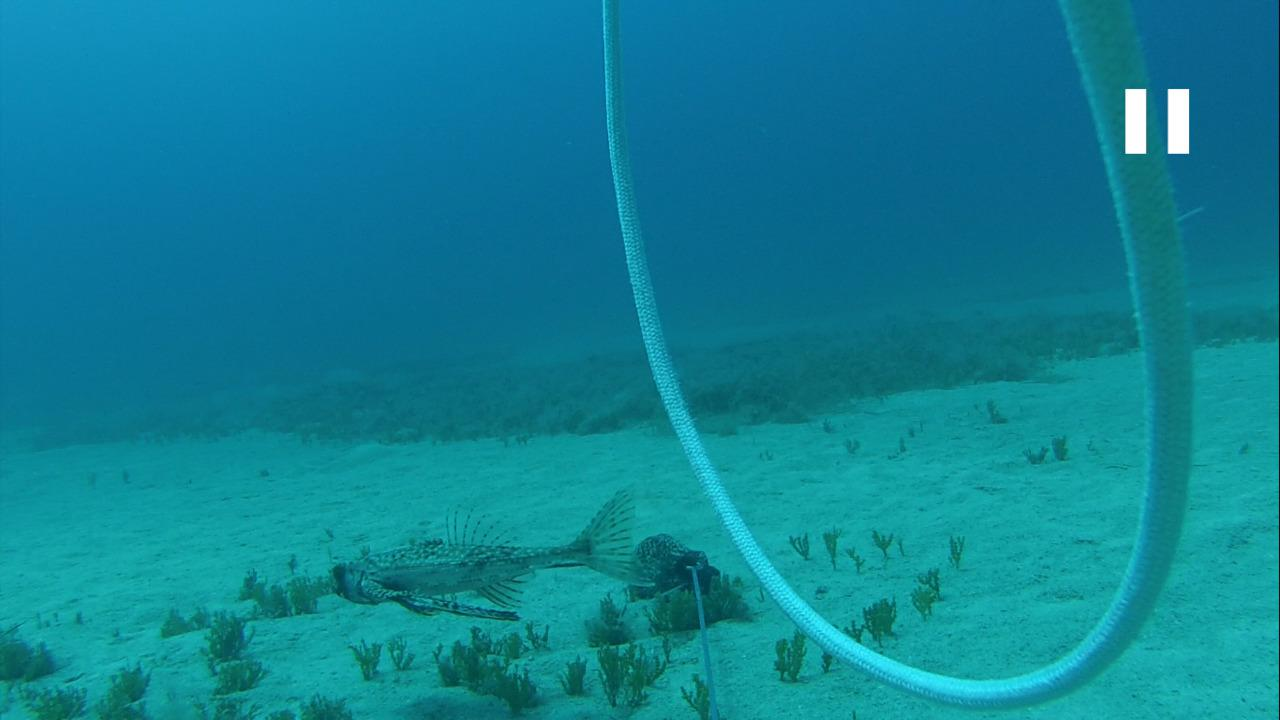dactylopterus: (321, 482, 653, 628)
